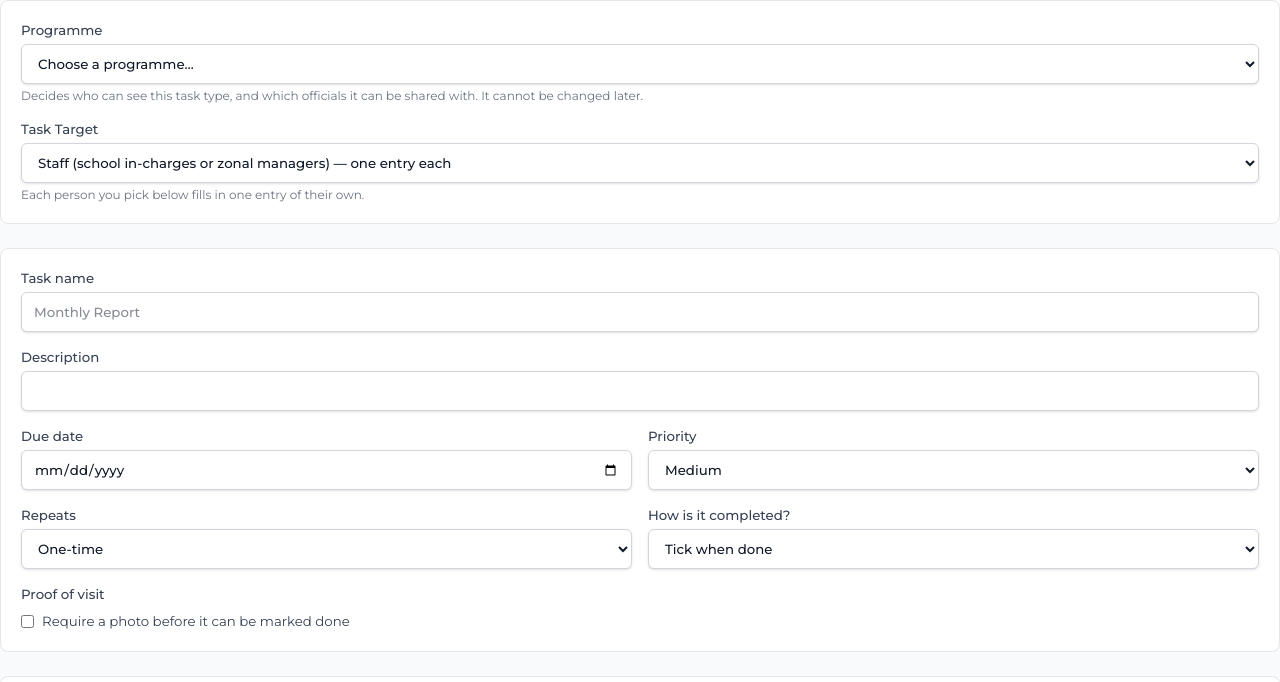
Test case: builder: Programme → Target → schools with their batches, start/end window › select-all buttons toggle back off
Select "Bootcamp" in the dropdown showing "Choose a programme…" at (640, 64), box [21,44,1259,84]
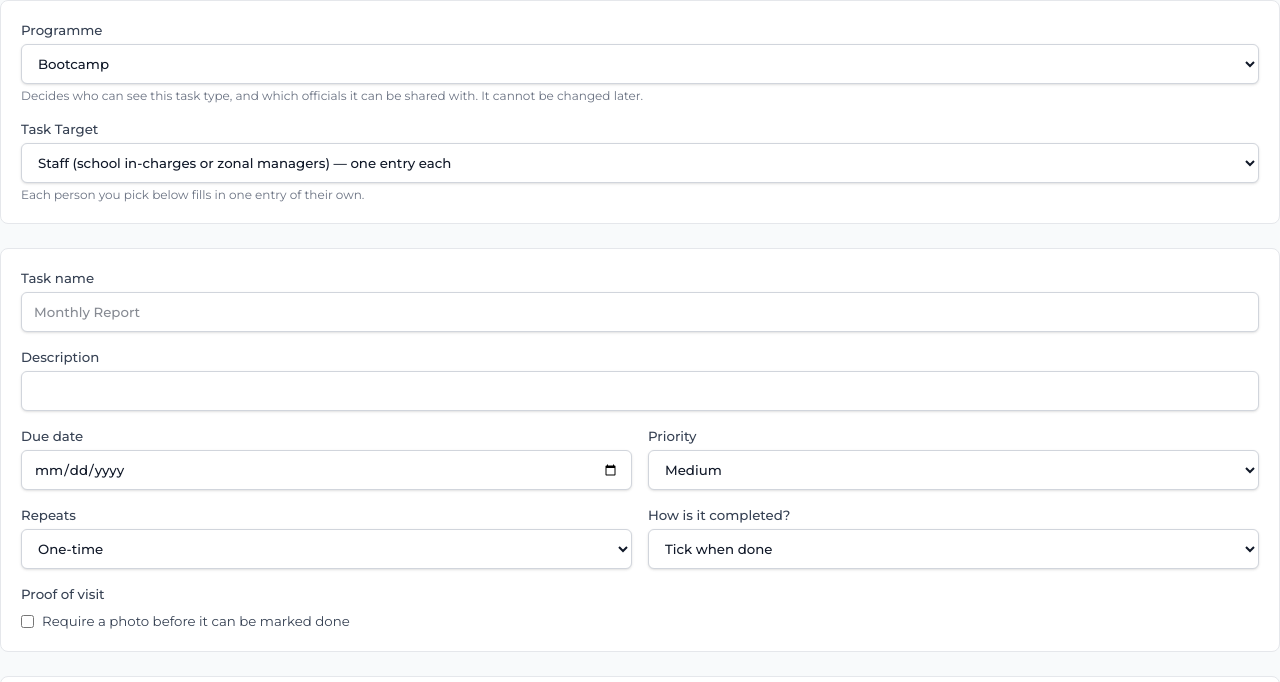
Select "A student — one entry per student" in the dropdown showing "Staff" at (640, 163), box [21,143,1259,183]
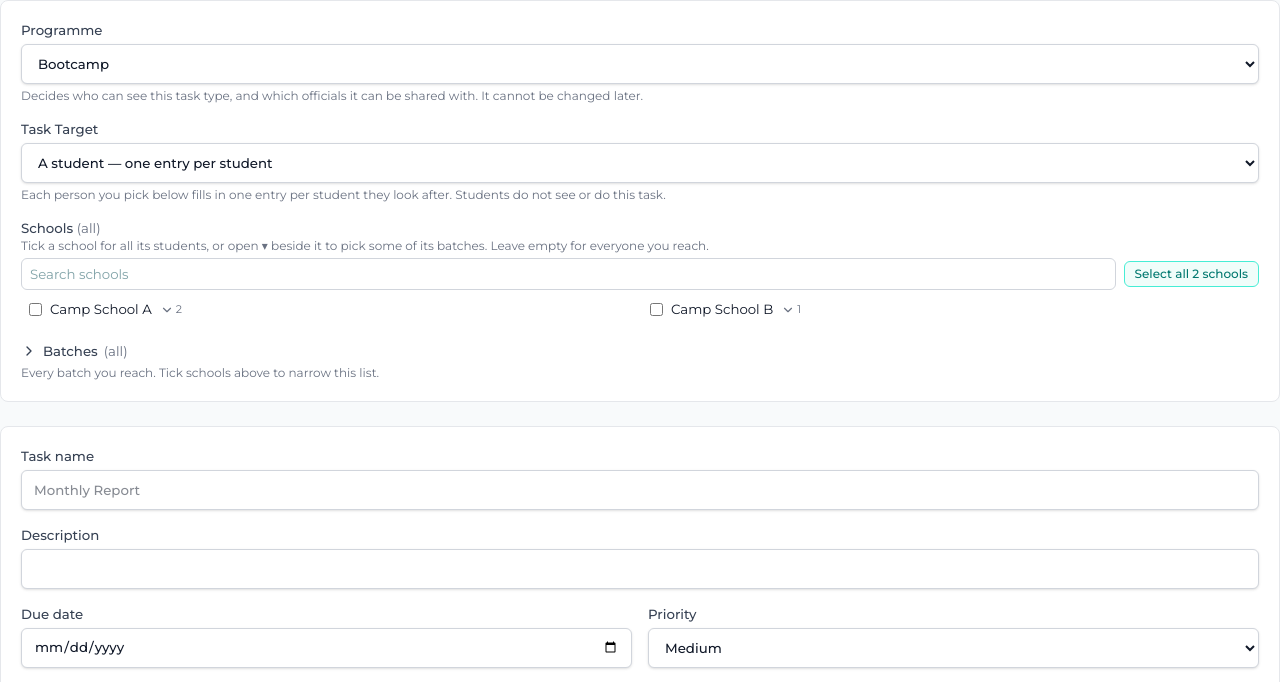
Click the button "Select all 2 schools".
click(1191, 274)  # box [1124,261,1259,287]
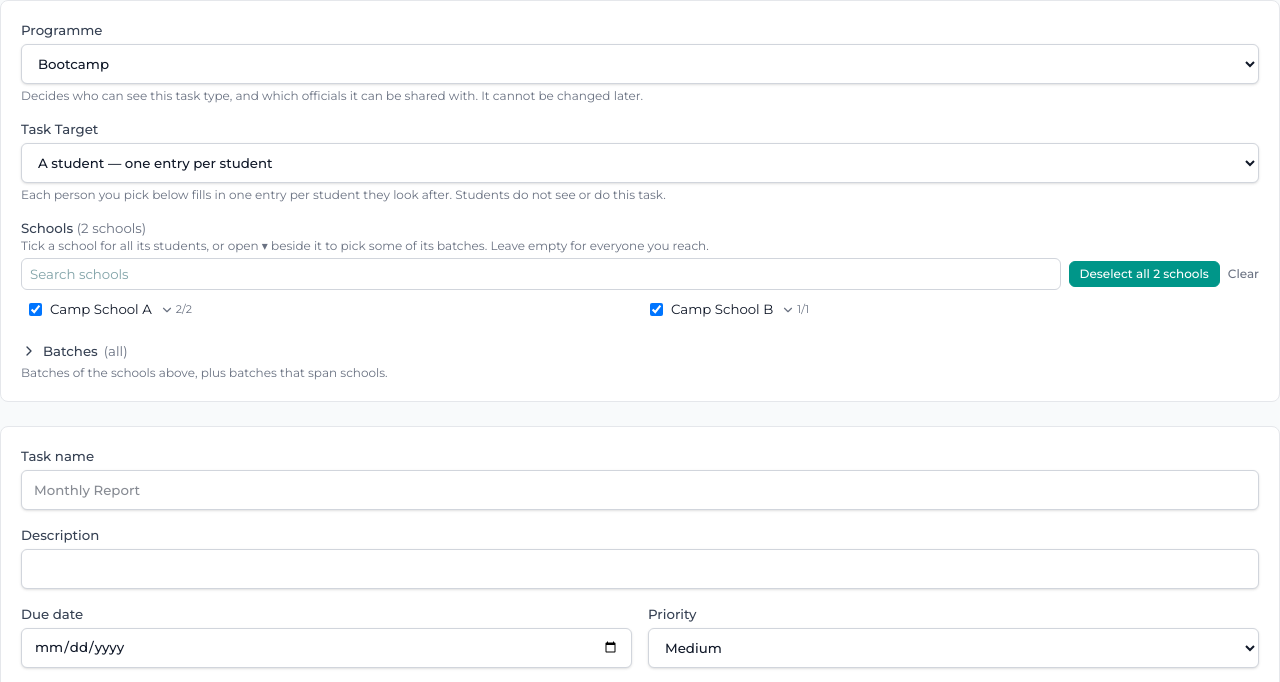
Expected: the checkbox labelled "Camp School B" is checked, [650,303,663,316]
Click the button "Deselect all 2 schools".
click(1144, 274)  # box [1069,261,1220,287]
(page scrolled)
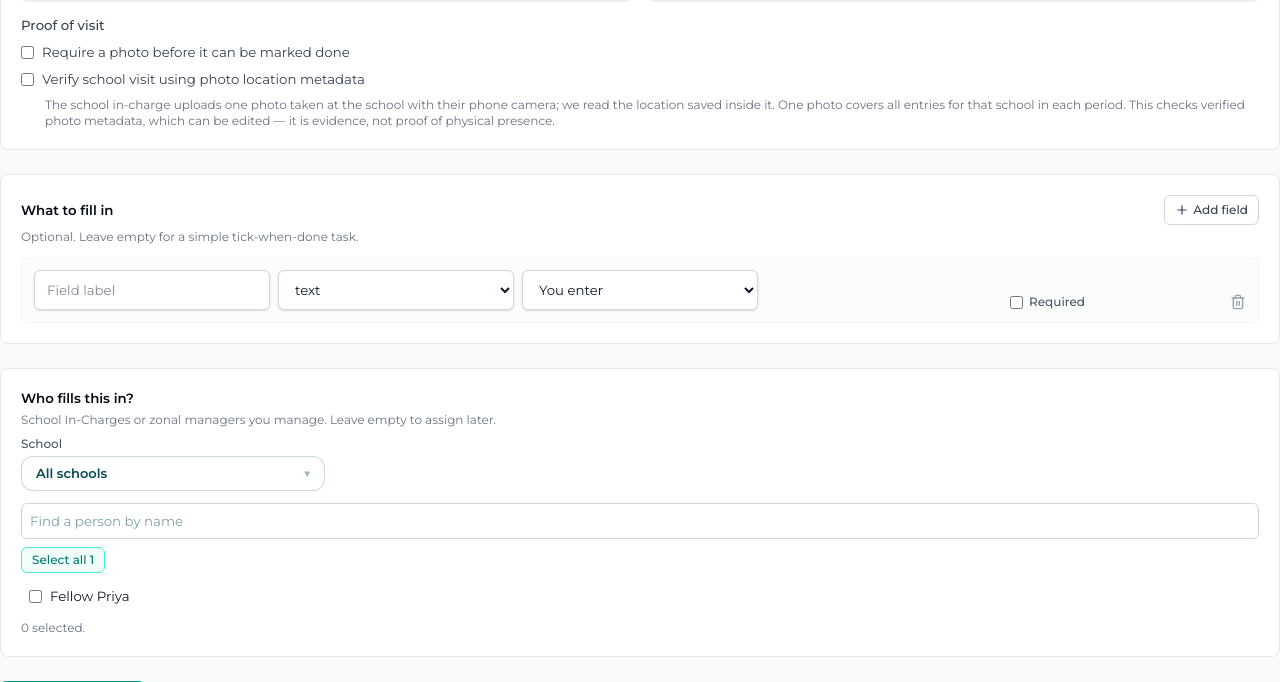
Expected: the checkbox labelled "Fellow Priya" is not checked, [29,590,42,603]
